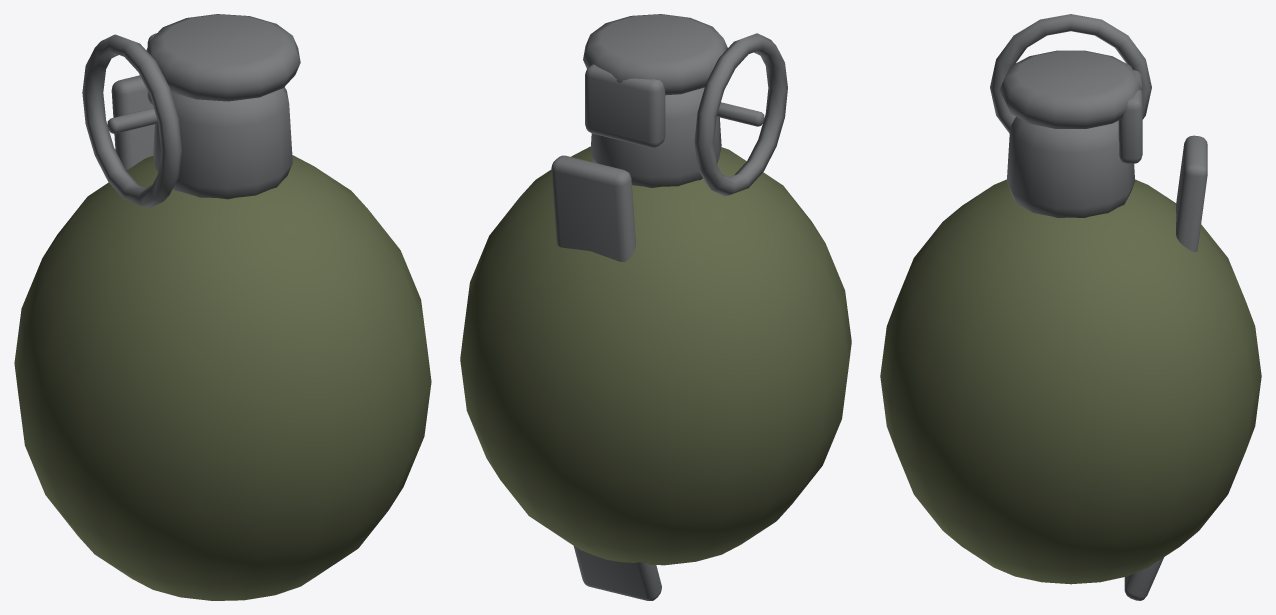
The model's file is granada.glb.
3 views of the same model, side by side, from view 1: azimuth 30°, elevation 25°; view 2: azimuth 150°, elevation 25°; view 3: azimuth 270°, elevation 25° (orthographic). The views are drawn at different scales.
Parts seen in each view (by area): view 1: Torus; view 2: Torus; view 3: Torus.
Part boxes in pixels (x1,y1,x2,y2): Torus: (14, 14, 431, 600); Torus: (460, 14, 851, 600); Torus: (880, 14, 1261, 600).
Size of the model in its own units: 0.064 by 0.0985 by 0.064.
